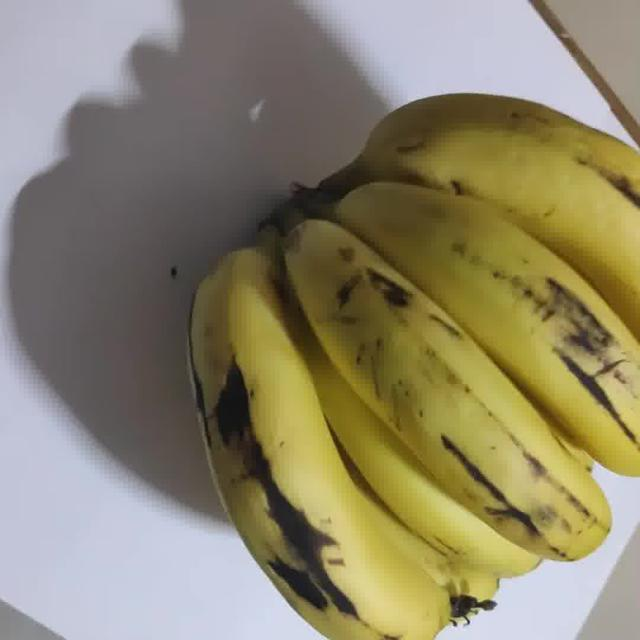apple: (93, 36, 640, 640)
